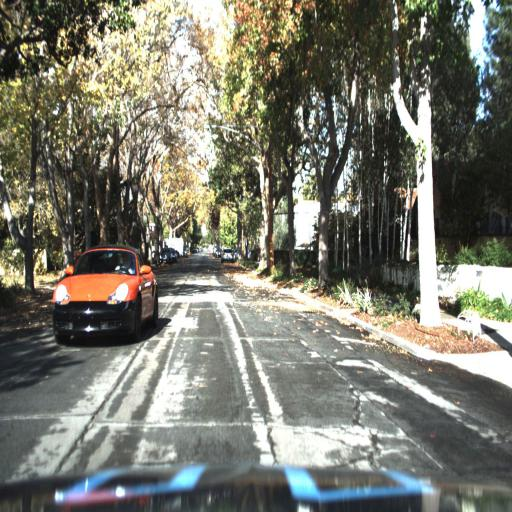car: (43, 240, 166, 352), (218, 242, 234, 269)
